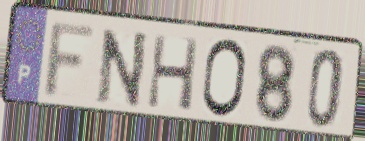0: (307, 48, 349, 133)
8: (252, 42, 298, 127)
F: (40, 20, 101, 103)
H: (145, 32, 201, 114)
N: (95, 27, 151, 111)
O: (199, 36, 249, 121)
